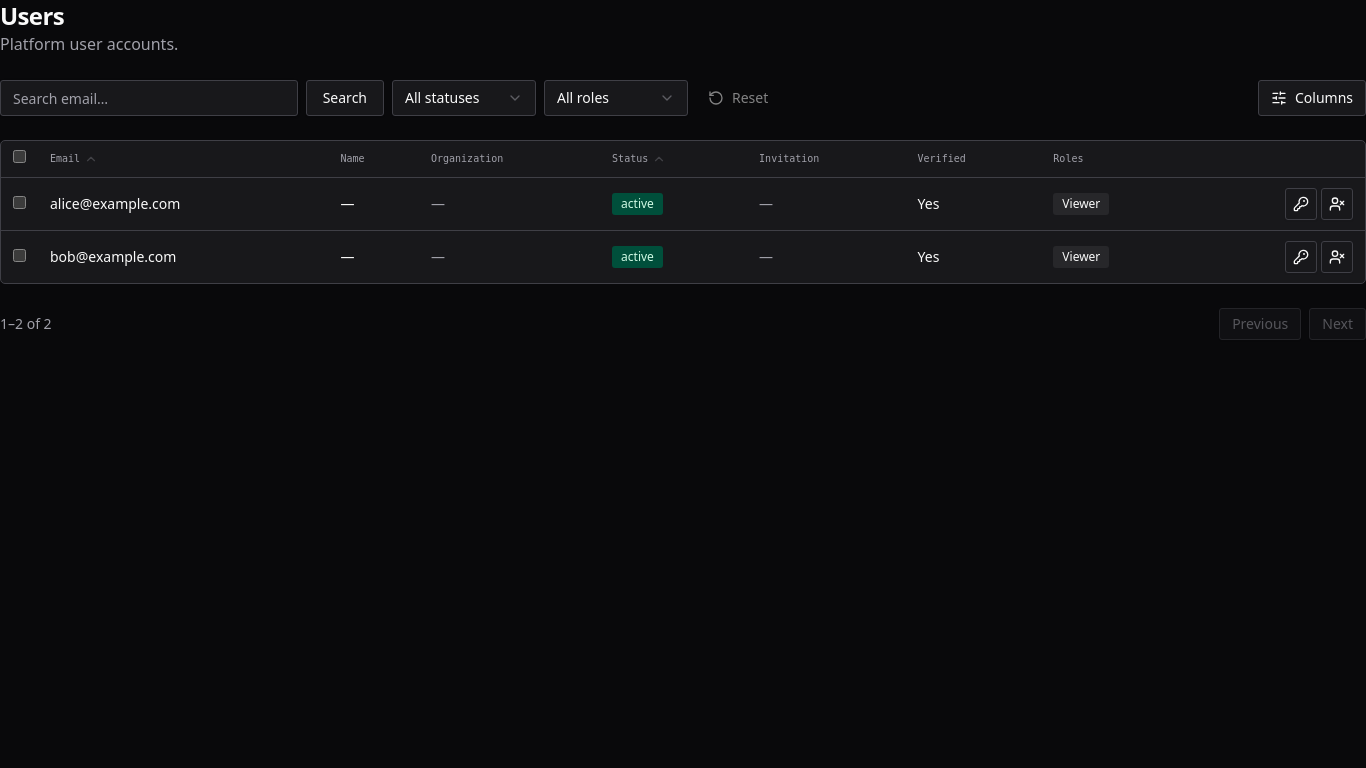
it: UsersListPage — bulk admin actions › bulk reset opens the result dialog and names the failed row by email
This screenshot has width=1366, height=768.
Expected: the text "bob@example.com" is shown, [50, 246, 176, 266]
Click the checkbox named "Select all rows" at (20, 157), box [13, 150, 26, 163]
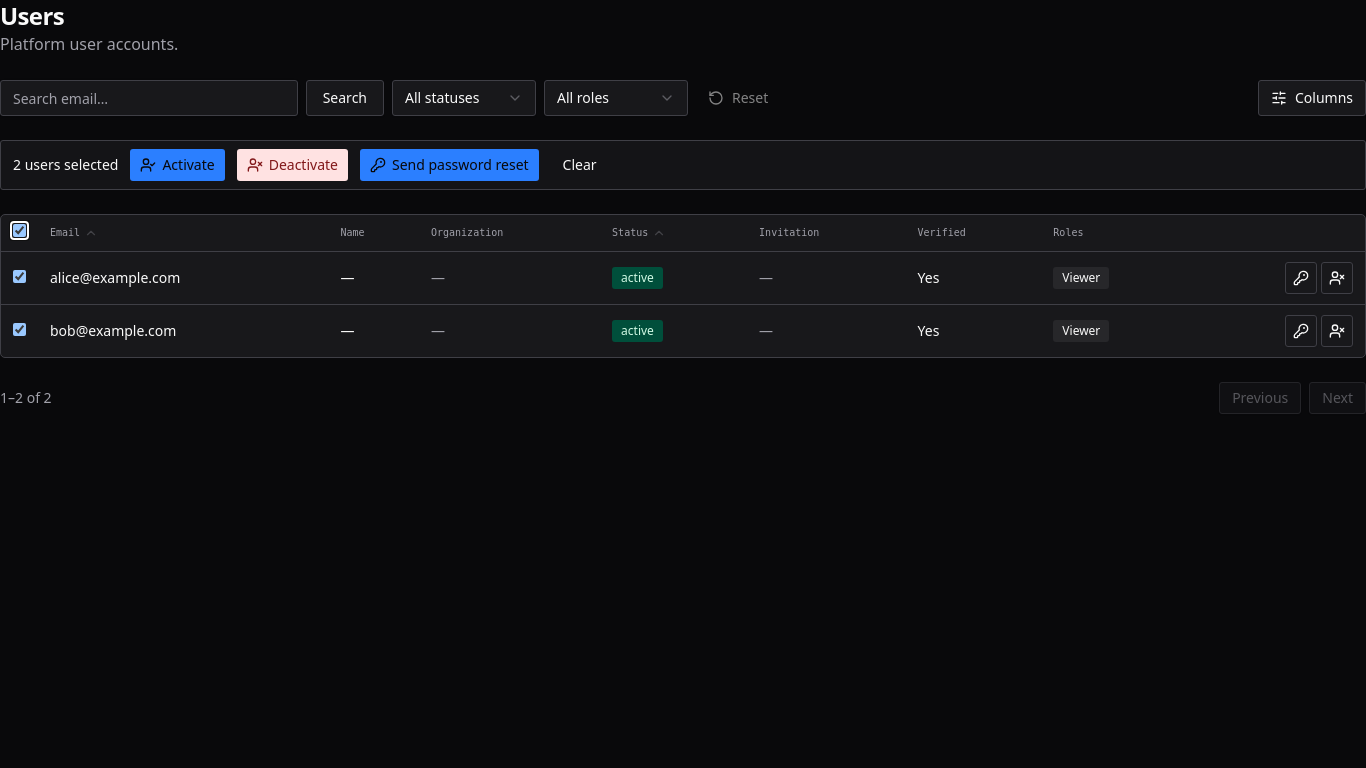
Click the button "Send password reset" at (449, 165), box [360, 149, 539, 181]
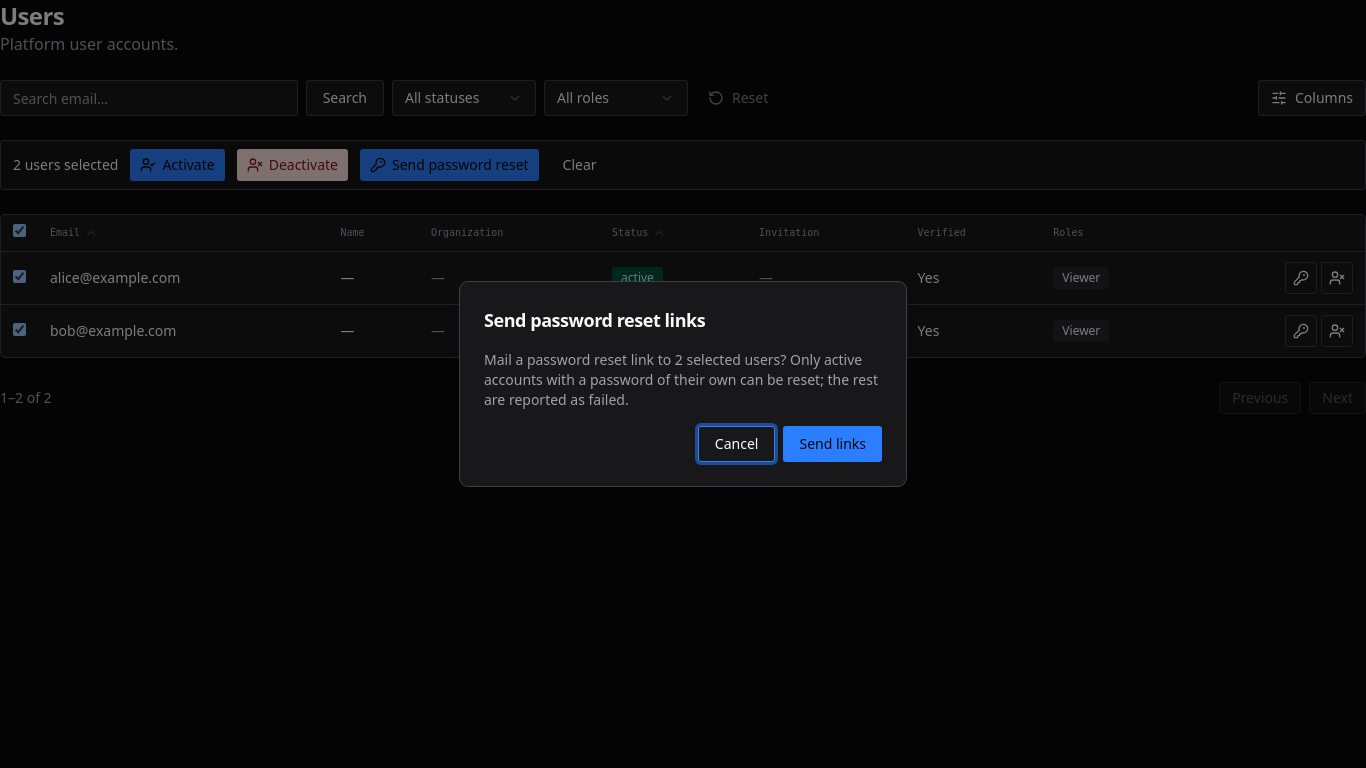
Click the button "Send links" at (833, 444), box [784, 426, 882, 462]
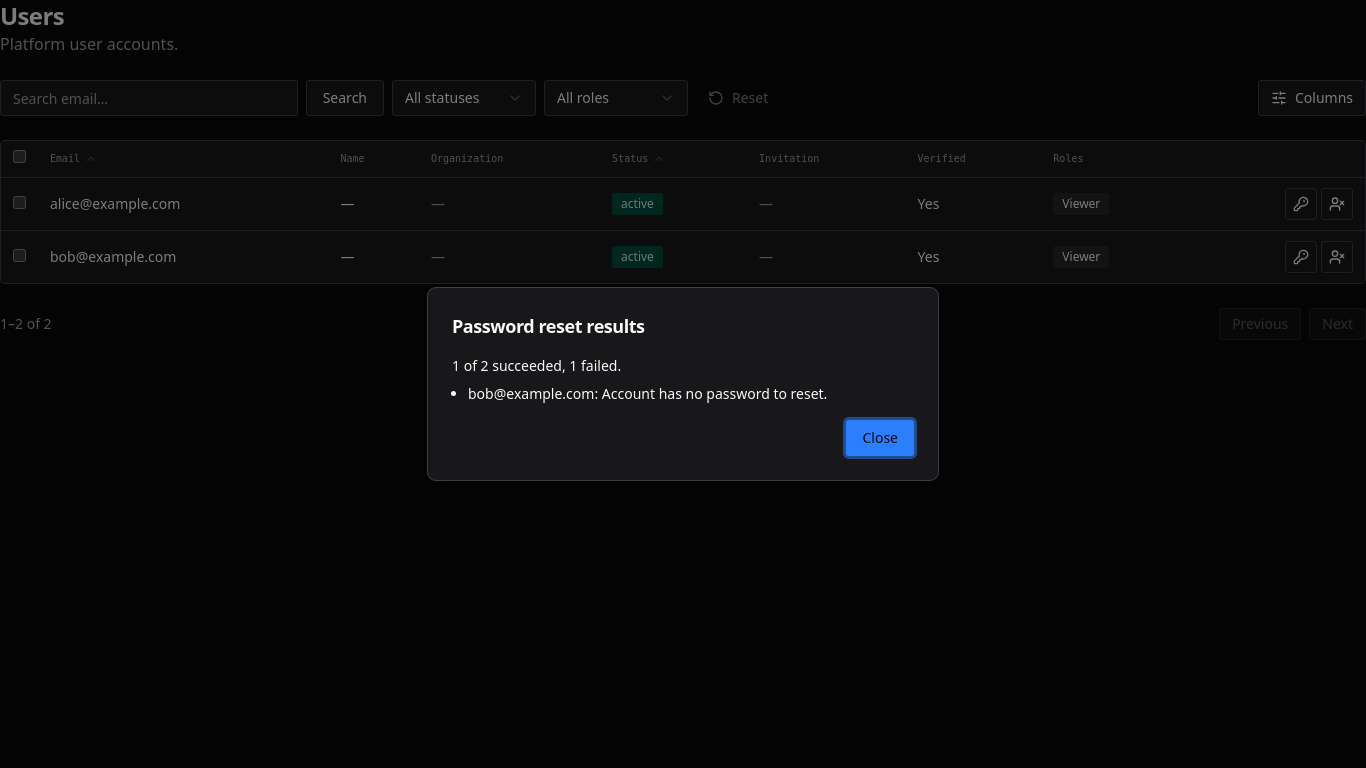
Result: the text "1 of 2 succeeded, 1 failed." is shown at [452, 356, 621, 375]
Result: the list item reads "bob@example.com: Account has no password to reset." at [468, 384, 827, 403]
